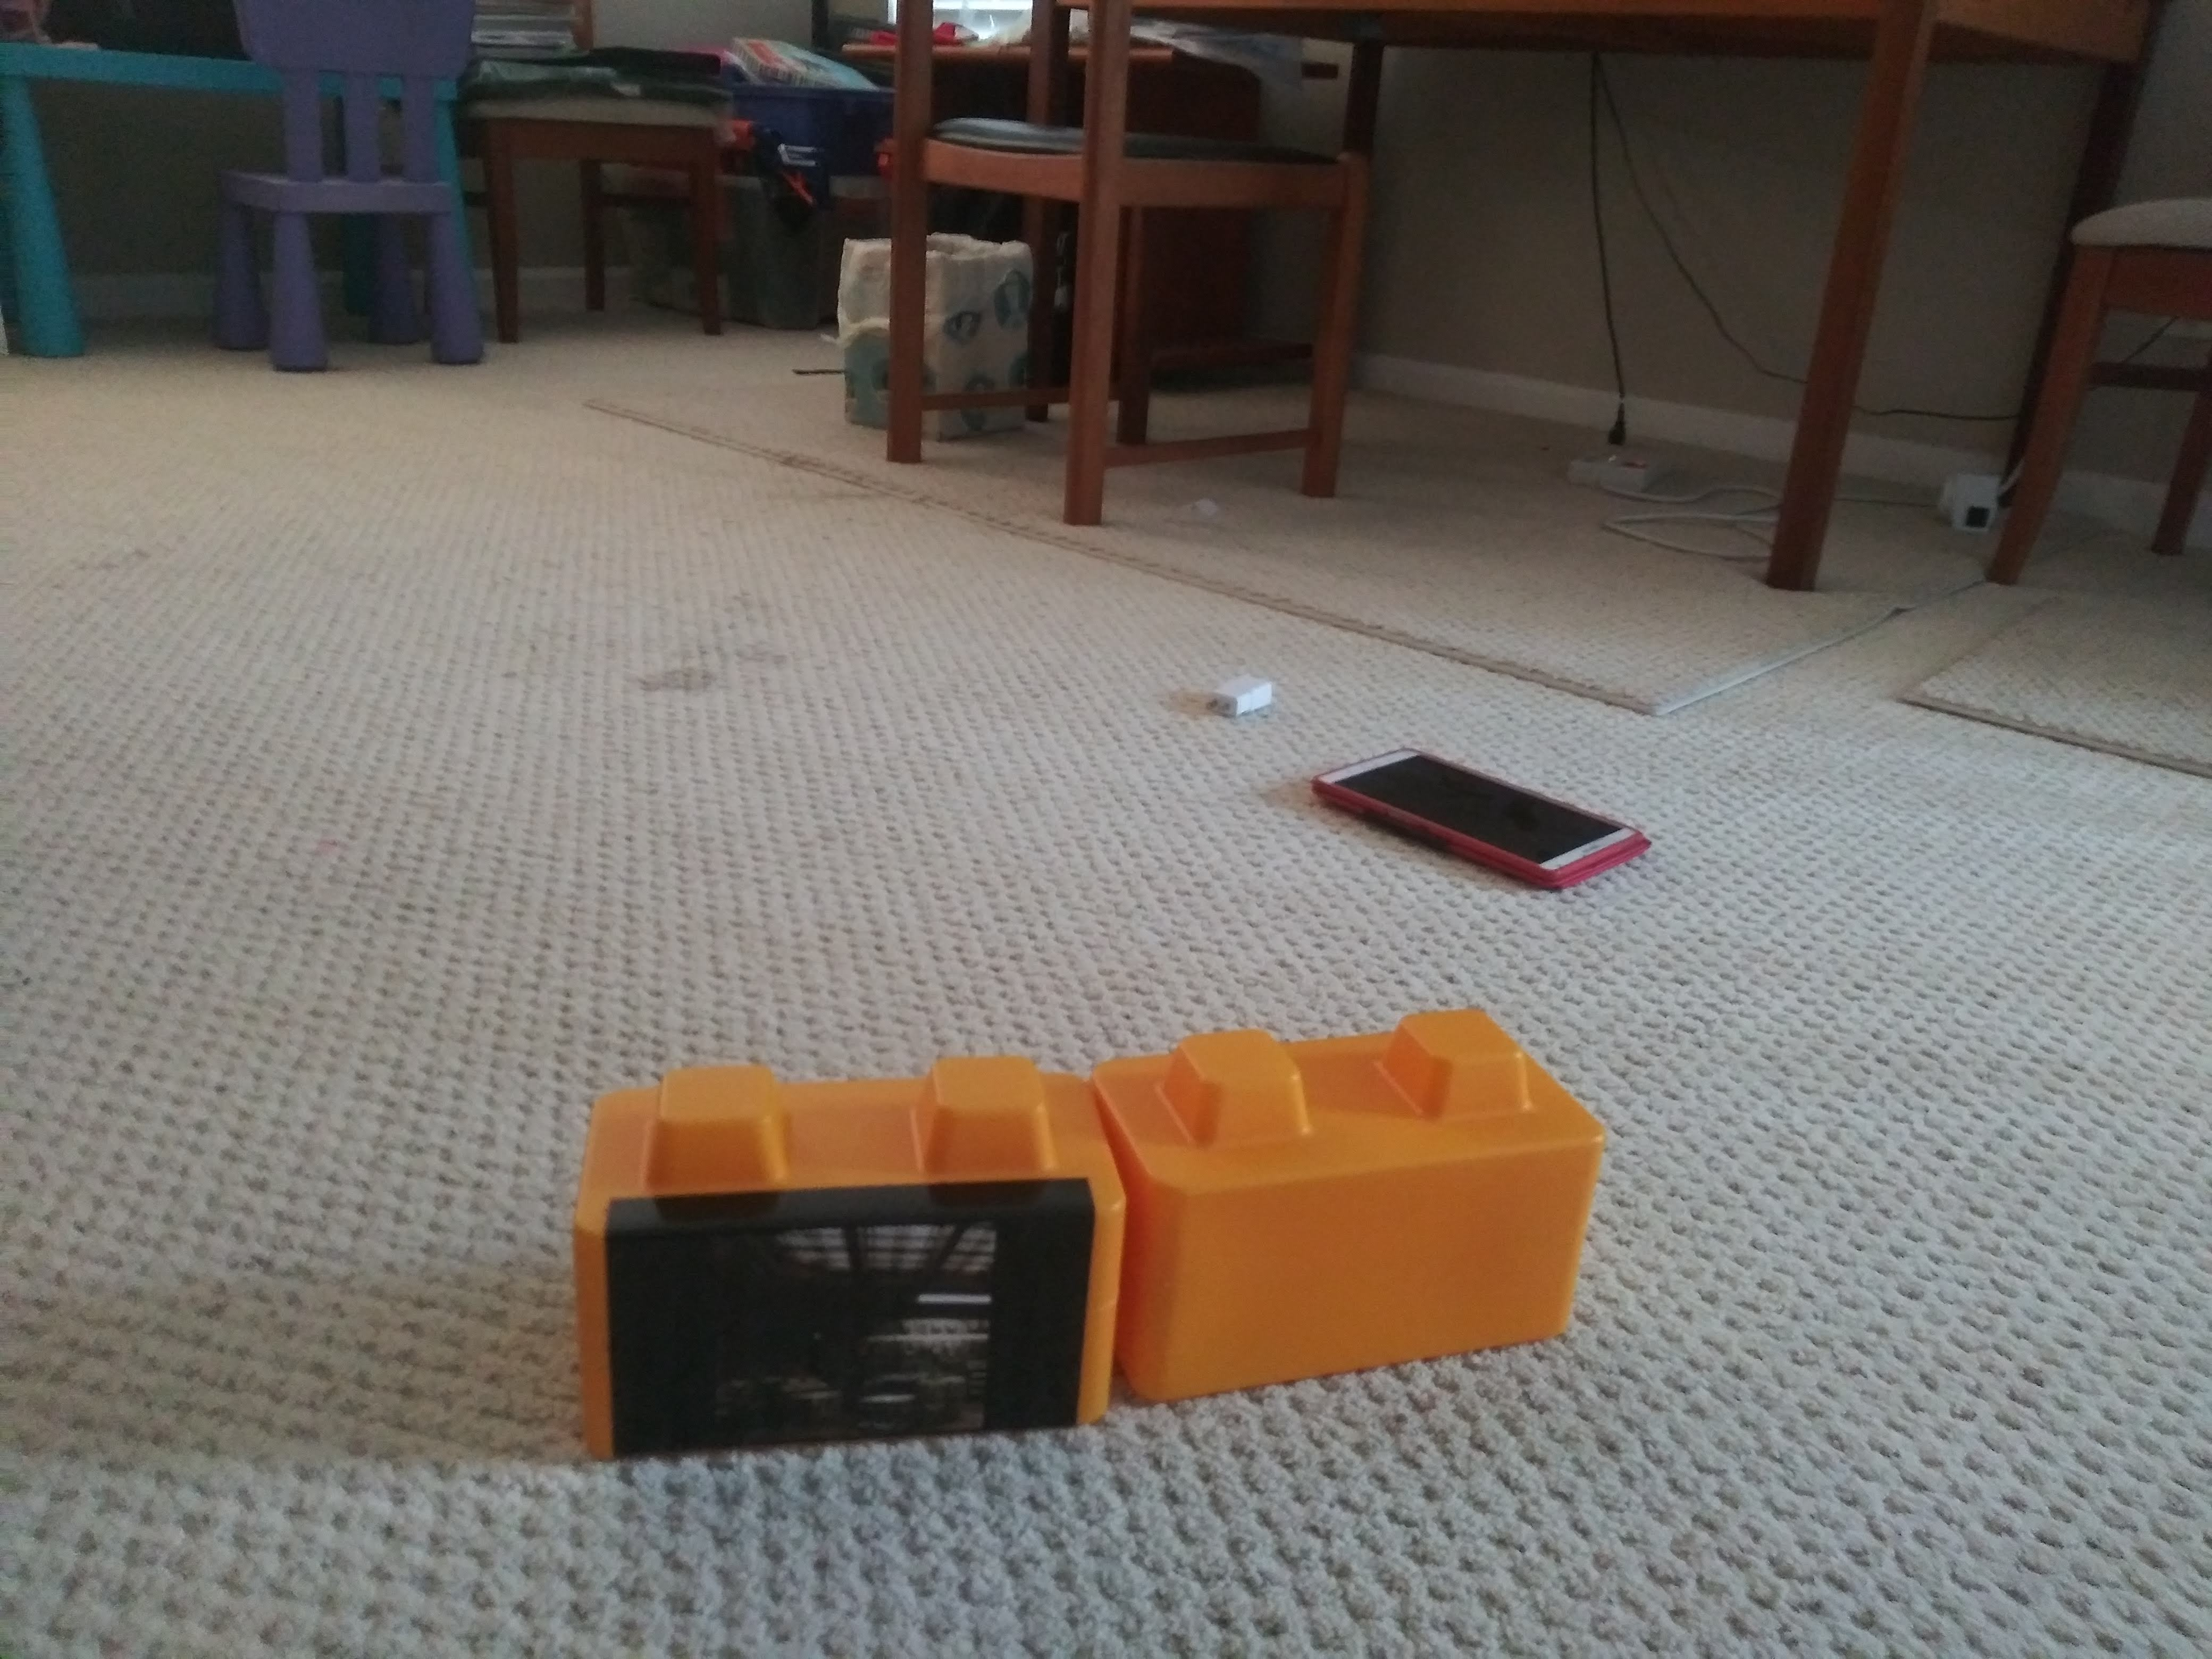skystone: (577, 1121, 1099, 1427)
stone: (1134, 1072, 1585, 1371)
